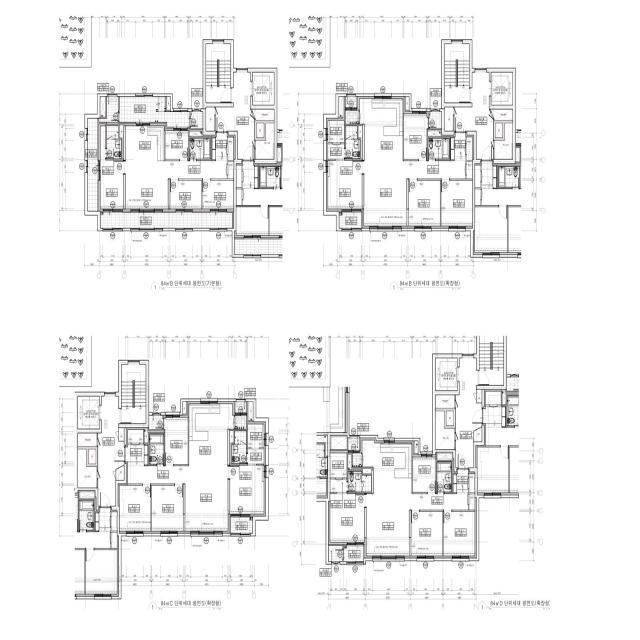space_balconi: (119, 97, 190, 127), (100, 213, 232, 228), (88, 119, 98, 211), (231, 518, 253, 533), (339, 213, 361, 228), (344, 546, 364, 562)
space_bedroom: (100, 126, 123, 209), (230, 465, 264, 514), (330, 494, 364, 542), (328, 161, 362, 209), (119, 485, 151, 531), (443, 512, 475, 556), (152, 486, 183, 531), (409, 181, 440, 226), (441, 181, 472, 226), (411, 512, 442, 556), (165, 418, 188, 464), (404, 114, 427, 159), (170, 181, 201, 209), (203, 181, 234, 209), (413, 457, 436, 492), (165, 131, 188, 160)
space_dressroom: (330, 453, 347, 492), (248, 424, 264, 464), (328, 121, 344, 159)
space_elevator: (491, 73, 513, 105), (436, 358, 457, 391), (253, 72, 274, 105), (78, 397, 99, 429)
space_elevator_hall: (215, 72, 255, 159), (454, 72, 493, 159), (456, 358, 482, 468), (98, 397, 124, 506)
space_front: (212, 133, 234, 160), (451, 133, 472, 160), (125, 444, 148, 466), (453, 470, 468, 494)
space_kitchen: (189, 404, 234, 465), (362, 440, 412, 494), (360, 99, 403, 161), (126, 126, 164, 161)
space_living_room: (364, 161, 473, 226), (128, 466, 228, 531), (366, 494, 468, 556), (125, 161, 234, 209)
space_other: (78, 449, 97, 488), (436, 411, 455, 449), (494, 123, 513, 159), (256, 123, 274, 159), (436, 395, 455, 408), (78, 433, 97, 446), (491, 109, 513, 120), (348, 454, 362, 470), (252, 110, 274, 120), (329, 546, 343, 561), (191, 112, 203, 129), (149, 415, 163, 429), (128, 430, 143, 443), (331, 437, 347, 449), (429, 112, 441, 128), (445, 107, 453, 131), (206, 108, 214, 131), (345, 110, 358, 124), (119, 126, 124, 159), (235, 416, 246, 429), (358, 125, 362, 159), (230, 431, 234, 464), (352, 453, 361, 467), (474, 427, 482, 442), (446, 411, 454, 426), (100, 97, 106, 117), (495, 123, 503, 138), (469, 474, 475, 493), (116, 466, 124, 480), (89, 449, 96, 464), (257, 123, 264, 138), (469, 494, 475, 510), (438, 454, 452, 460), (339, 97, 343, 117), (189, 131, 202, 137), (428, 131, 441, 137), (249, 402, 253, 420), (477, 390, 482, 403), (119, 428, 124, 441), (144, 429, 148, 443), (414, 441, 418, 453), (363, 469, 372, 474), (167, 97, 170, 110), (406, 97, 409, 110), (183, 402, 186, 414)
space_outdoor_room: (99, 97, 118, 122), (348, 438, 359, 450), (345, 97, 357, 108), (235, 402, 246, 413)
space_staircase: (206, 44, 231, 103), (479, 327, 504, 385), (121, 365, 146, 423), (445, 44, 469, 103)
space_toilet: (106, 126, 122, 159), (232, 431, 246, 464), (189, 138, 211, 159), (348, 472, 371, 492), (437, 462, 452, 492), (149, 434, 164, 464), (346, 126, 360, 158), (428, 138, 449, 159)
